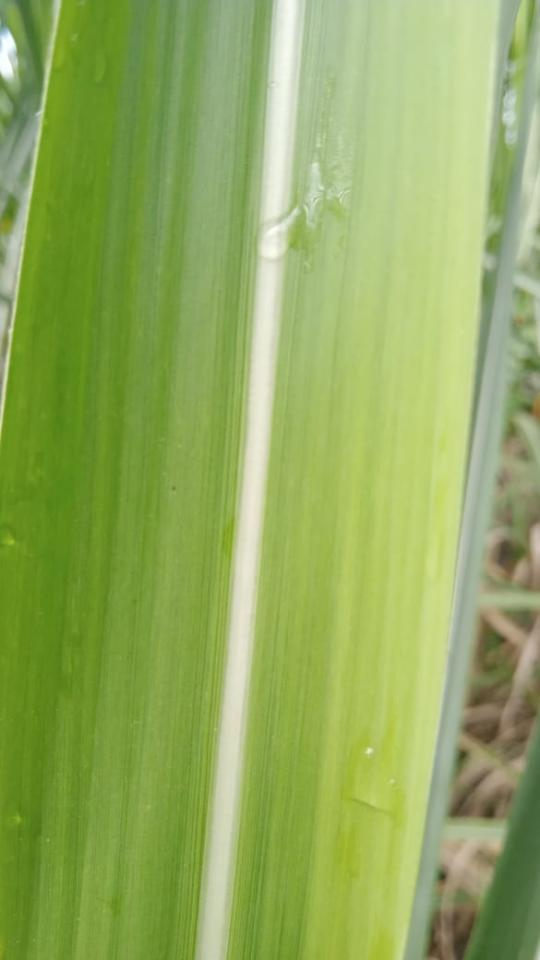Healthy: (0, 0, 497, 959)
